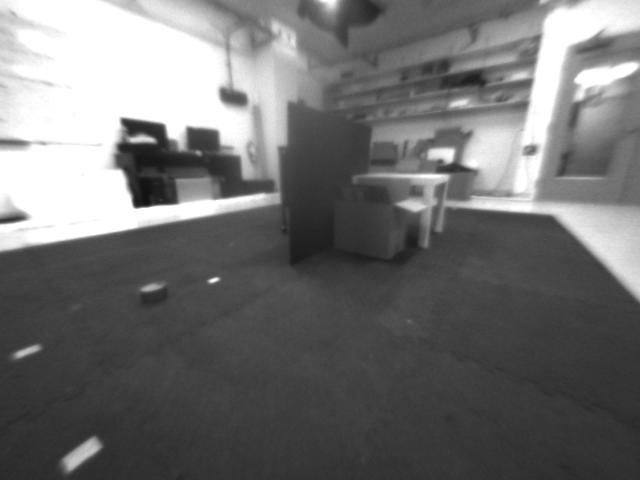dogtoy: (127, 276, 178, 307)
